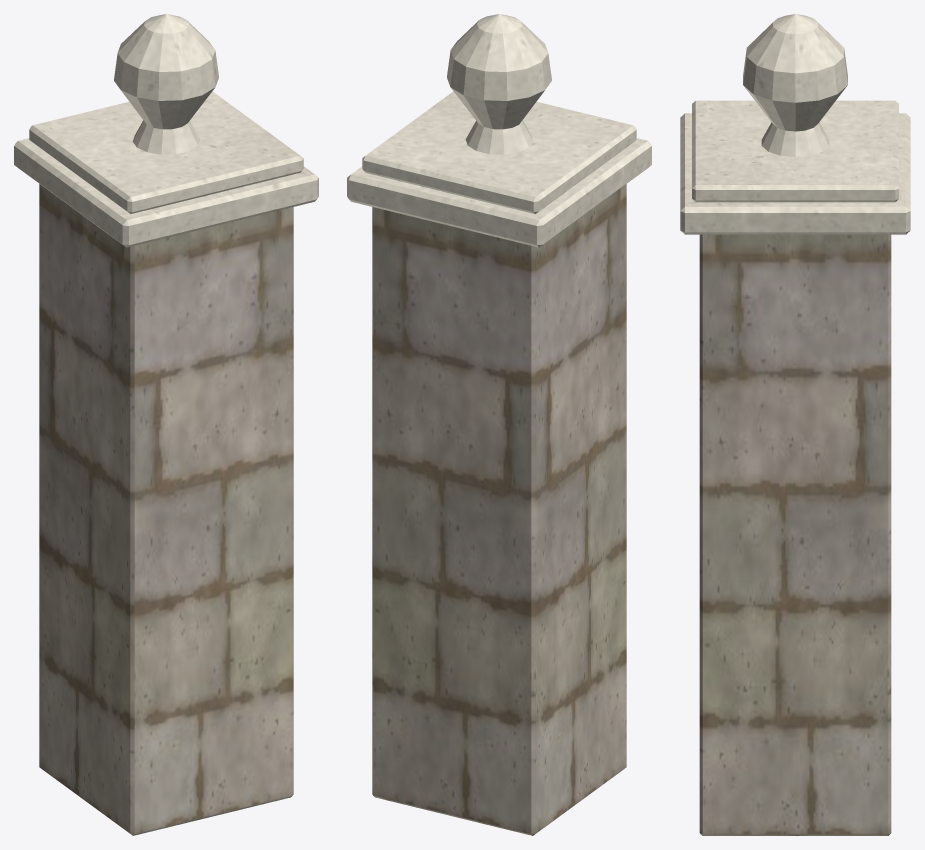
The model's file is fence_pier.glb.
3 renders of one model, left to right at view 1: azimuth 30°, elevation 25°; view 2: azimuth 150°, elevation 25°; view 3: azimuth 270°, elevation 25°, orthographic.
Parts seen in each view (by area): view 1: fence_pier_stone2, fence_pier_trim; view 2: fence_pier_stone2, fence_pier_trim; view 3: fence_pier_stone2, fence_pier_trim.
Boxes of the visible parts, x1,y1,x2,y2 form: fence_pier_stone2: (39, 184, 293, 835); fence_pier_trim: (14, 14, 318, 247); fence_pier_stone2: (372, 184, 626, 835); fence_pier_trim: (347, 14, 651, 247); fence_pier_stone2: (699, 234, 891, 835); fence_pier_trim: (680, 14, 910, 234).
Size of the model in its own units: 0.6 by 2.25 by 0.6.
2 materials, 2 textured.
